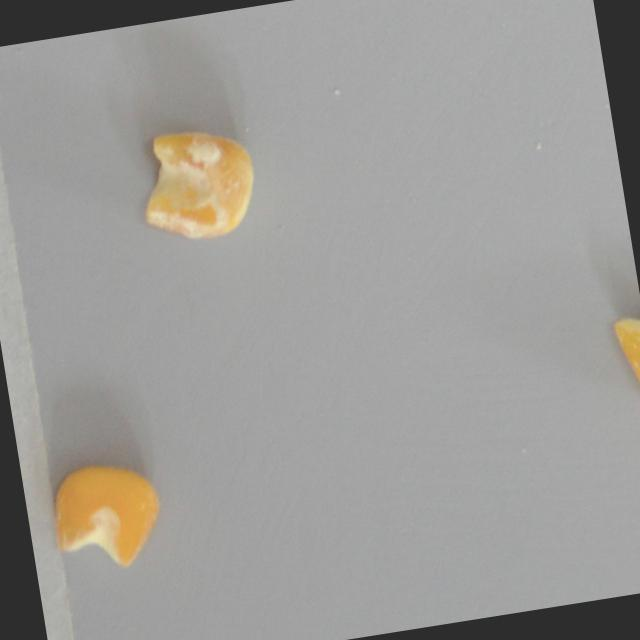pelicula: (133, 121, 263, 247), (45, 455, 167, 576), (608, 289, 640, 422)
